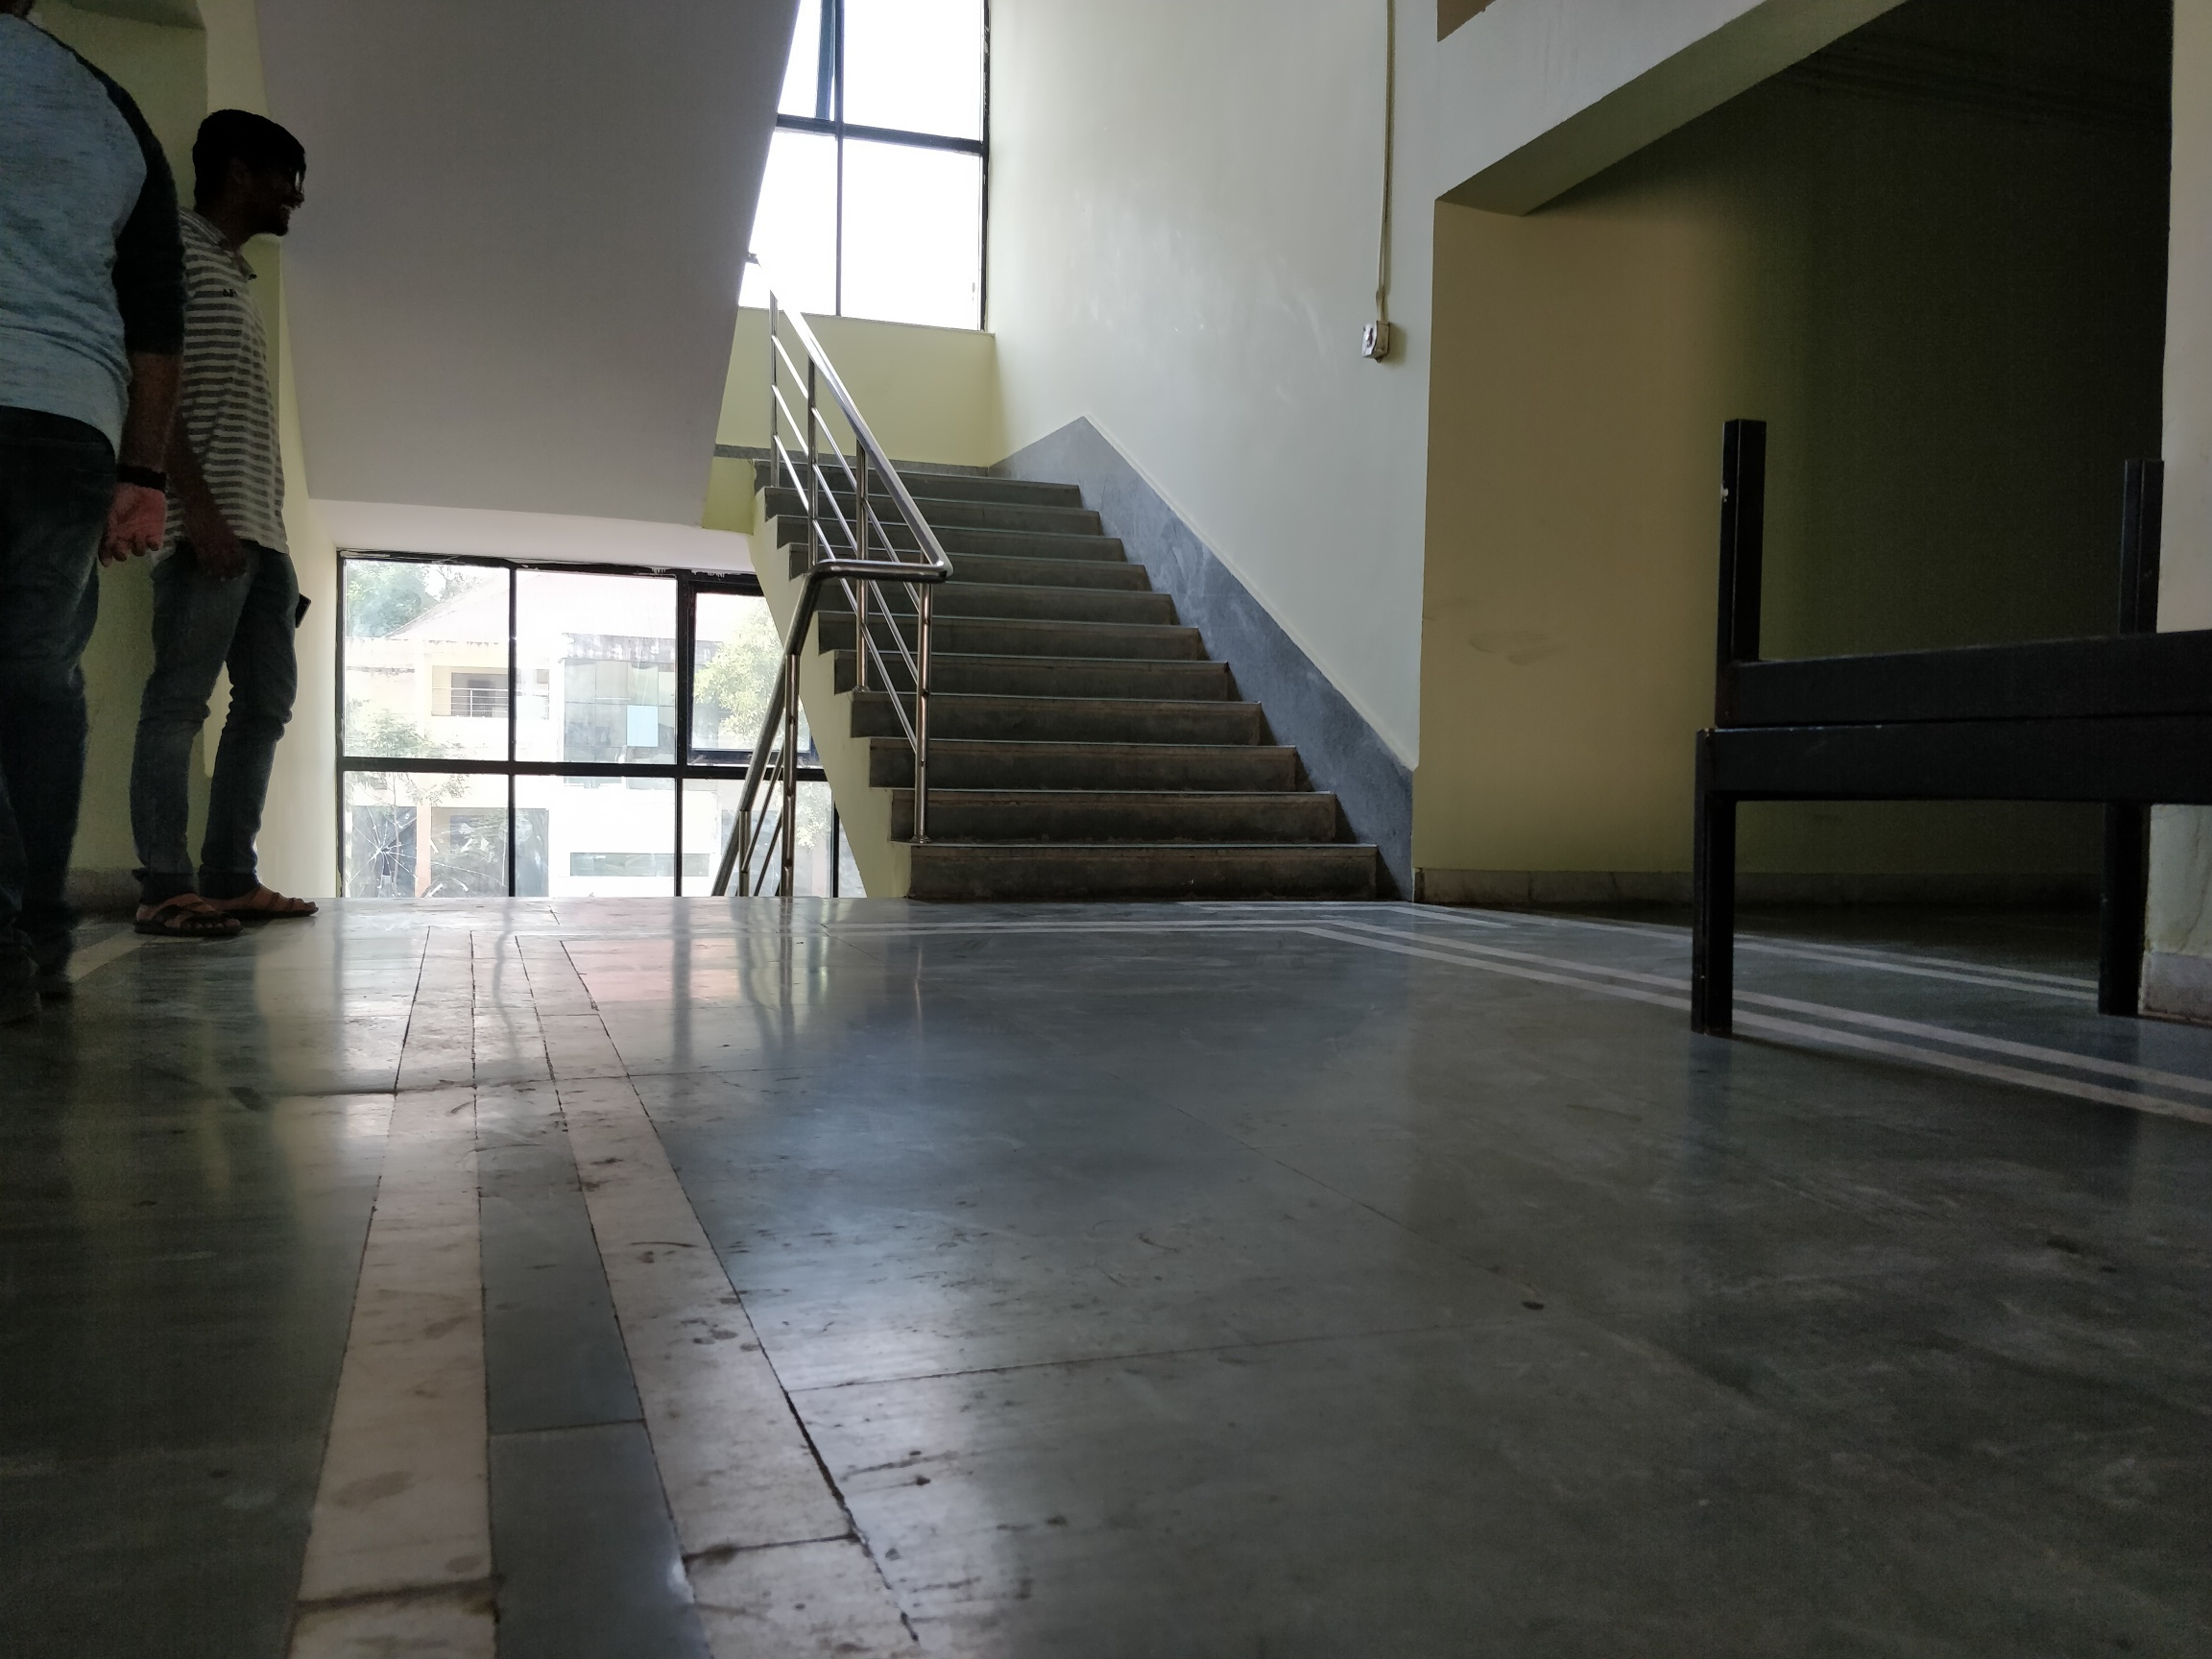stairs_up: (759, 460, 1379, 901)
